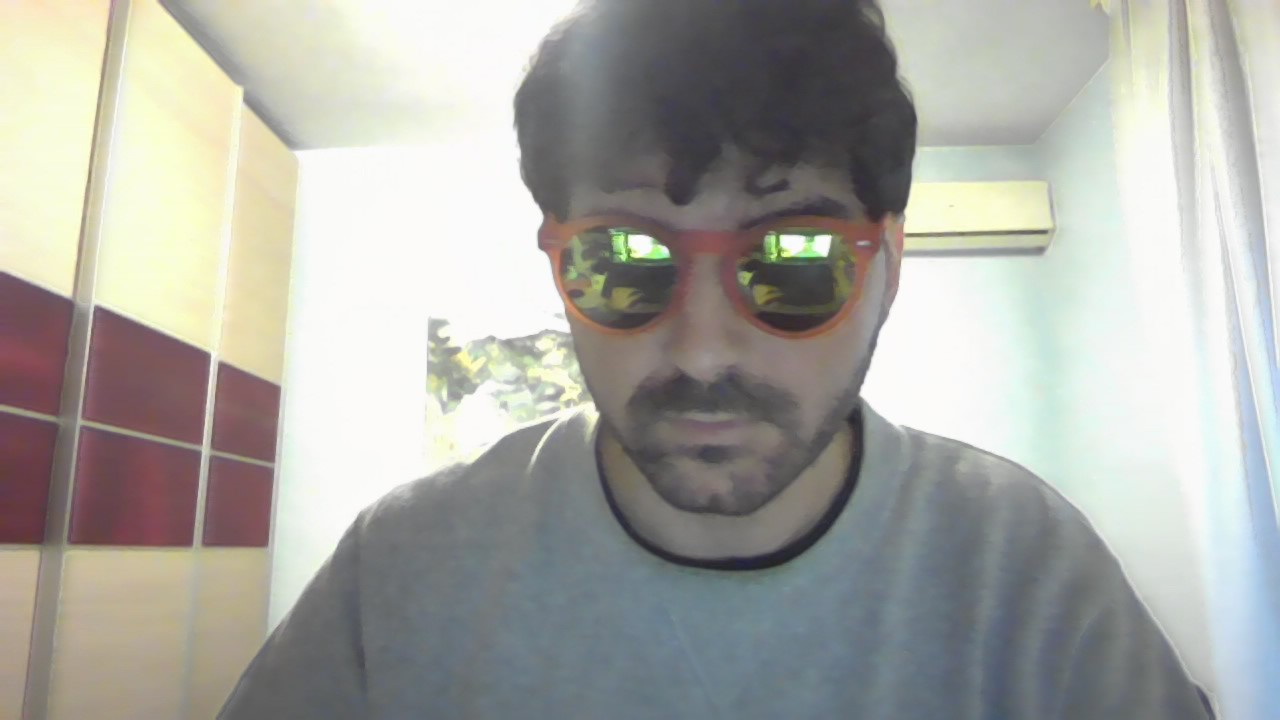Glasses: (525, 199, 914, 344)
